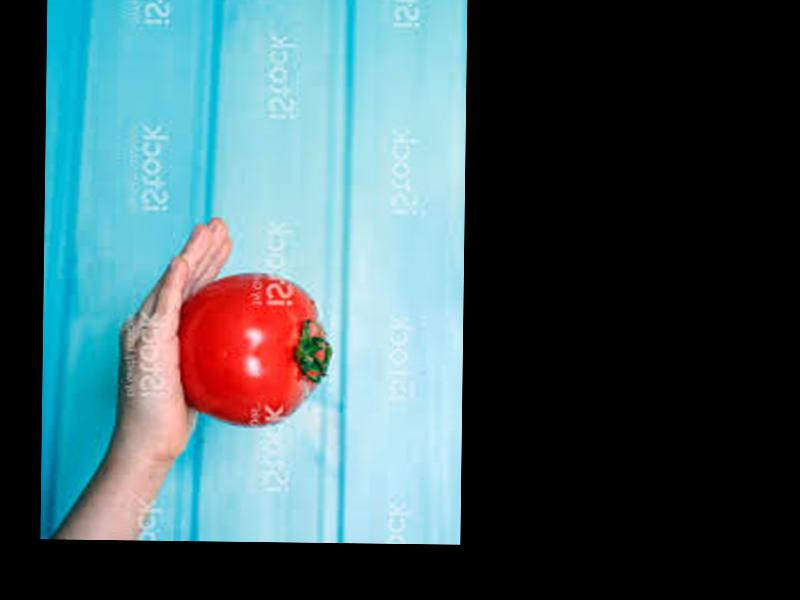Tomato: (176, 271, 330, 424)
